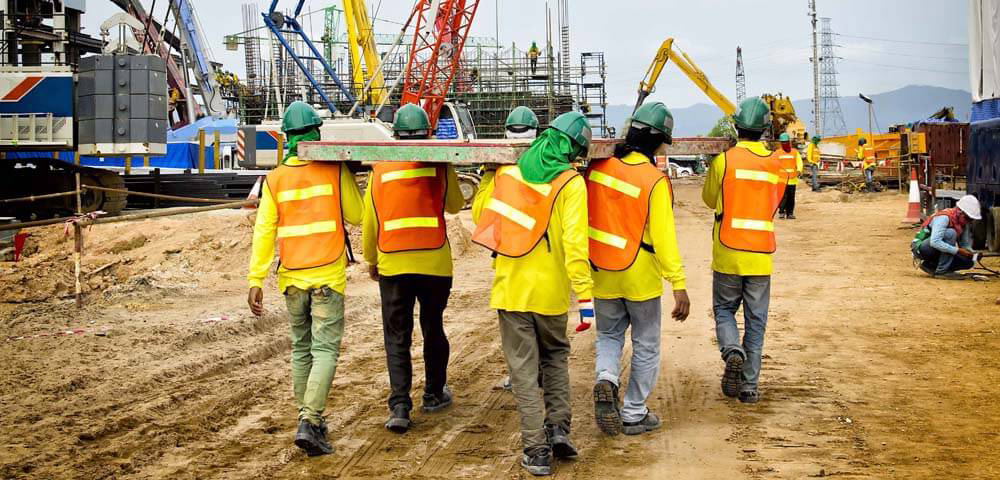hard hat: (630, 101, 674, 143), (549, 111, 594, 147), (733, 96, 774, 128), (280, 100, 324, 129), (394, 104, 431, 132), (505, 107, 540, 130), (956, 193, 982, 220), (812, 134, 821, 141), (859, 139, 866, 143), (530, 41, 534, 44)
high-vis: (587, 157, 675, 272), (474, 166, 582, 255), (262, 159, 349, 268), (720, 148, 787, 272), (372, 157, 449, 255), (917, 206, 966, 237), (780, 148, 798, 183), (811, 143, 821, 163), (528, 47, 536, 61)
